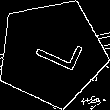L_NW: (22, 28, 81, 77)
